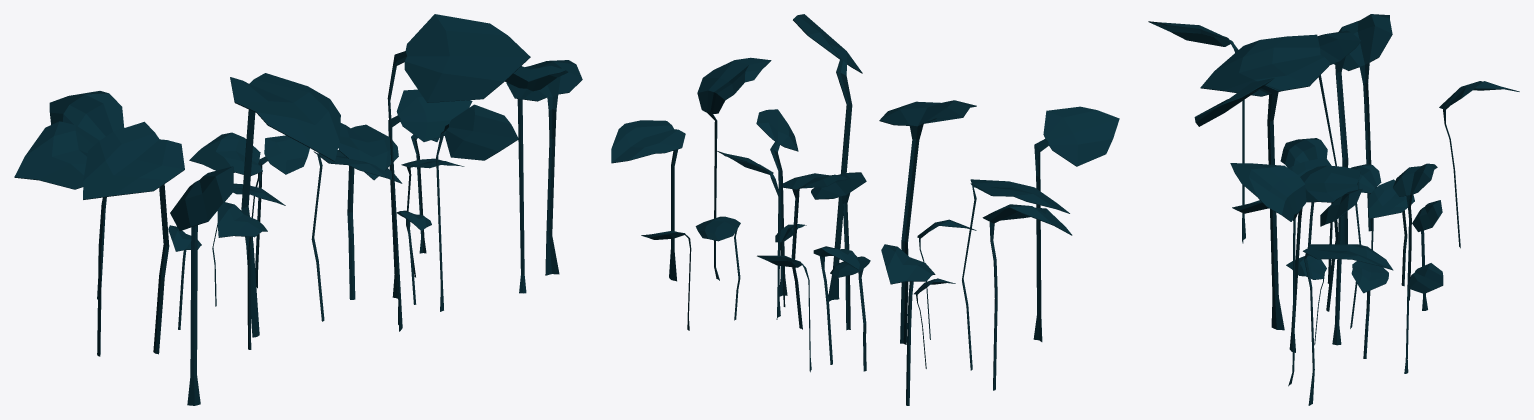
Rendered from st3_plant3.fbx.
3 renders of one model, left to right at view 1: azimuth 30°, elevation 25°; view 2: azimuth 150°, elevation 25°; view 3: azimuth 270°, elevation 25°, orthographic. The views are drawn at different scales.
Parts seen in each view (by area): view 1: stage3_map_object_leaves_5_large_; view 2: stage3_map_object_leaves_5_large_; view 3: stage3_map_object_leaves_5_large_.
Part boxes in pixels (x1,y1,x2,y2): stage3_map_object_leaves_5_large_: (14,14,582,405); stage3_map_object_leaves_5_large_: (611,14,1119,405); stage3_map_object_leaves_5_large_: (1148,14,1519,405).
Bounding box in the file's own units: 3219 × 1770 × 2196.
